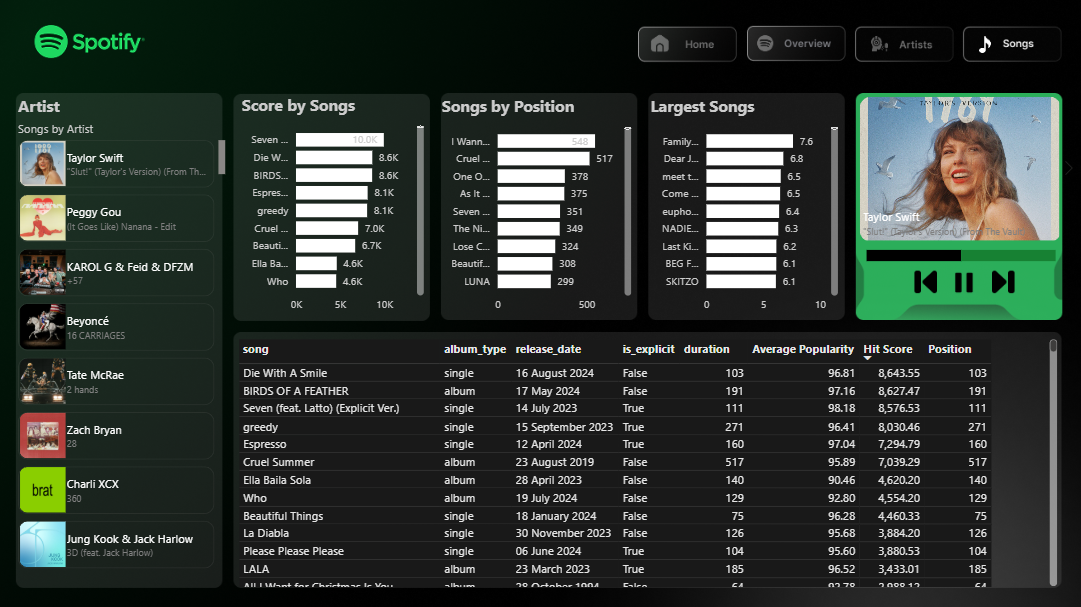

The page's visual inventory and layout, read from the dashboard file:
{"tool":"powerbi","page":{"name":"Songs","canvas":[1280,720],"ordinal":3},"visuals":[{"type":"actionButton","box":[754,32,116,42],"z":0},{"type":"actionButton","box":[884,34,114,40],"z":1000},{"type":"actionButton","box":[1012,34,114,40],"z":2000},{"type":"actionButton","box":[1140,34,114,40],"z":3000},{"type":"clusteredBarChart","title":"Score by Songs","fields":{"Category":["spotify-top-50-world.song"],"Y":["_Measures.Hit Score"]},"box":[285.2,111.5,224.4,266.2],"z":4000},{"type":"clusteredBarChart","title":"Largest Songs","fields":{"Y":["_Measures.Average Duration (Minutes)"],"Category":["spotify-top-50-world.song"]},"box":[766.9,112.8,230.7,264.9],"z":5000},{"type":"hundredPercentStackedBarChart","fields":{"Y":["_Measures.Average Popularity","Avg(spotify-top-50-world.popularity)"]},"box":[1021.2,265,232.5,67.5],"z":6000},{"type":"image","box":[1074.5,317.5,40,30],"z":7000},{"type":"image","box":[1165.7,317.5,40,30],"z":8000},{"type":"image","box":[1114.5,315.4,51.2,38.8],"z":9000},{"type":"advancedSlicerVisual","title":"Artist","fields":{"Values":["spotify-top-50-world.song"]},"box":[21.5,112.8,254.8,566.6],"z":10000},{"type":"advancedSlicerVisual","title":"Artist","fields":{"Values":["spotify-top-50-world.song"]},"box":[991.2,108.8,287.5,181.2],"z":11000},{"type":"clusteredBarChart","title":"Songs by Position","fields":{"Category":["spotify-top-50-world.song"],"Y":["CountNonNull(spotify-top-50-world.position)"]},"box":[521,112.8,233.2,264.9],"z":12000},{"type":"tableEx","fields":{"Values":["spotify-top-50-world.song","spotify-top-50-world.album_type","spotify-top-50-world.release_date Hierarchy.release_date","spotify-top-50-world.is_explicit","CountNonNull(spotify-top-50-world.duration_ms)","_Measures.Average Popularity","_Measures.Hit Score","CountNonNull(spotify-top-50-world.position)"]},"box":[281,396,974,300],"z":13000}]}

Visuals, with their boxes in screenshot pixels (x1, y1, x2, y2), scaled from the page's 1280x720 canvas onto the 1081x607 screenshot:
actionButton: l=637, t=27, r=735, b=62
actionButton: l=747, t=29, r=843, b=62
actionButton: l=855, t=29, r=951, b=62
actionButton: l=963, t=29, r=1059, b=62
"Score by Songs" clusteredBarChart: l=241, t=94, r=430, b=318
"Largest Songs" clusteredBarChart: l=648, t=95, r=843, b=318
hundredPercentStackedBarChart - _Measures.Average Popularity x Avg(spotify-top-50-world.popularity): l=862, t=223, r=1059, b=280
image: l=907, t=268, r=941, b=293
image: l=984, t=268, r=1018, b=293
image: l=941, t=266, r=984, b=299
"Artist" advancedSlicerVisual: l=18, t=95, r=233, b=573
"Artist" advancedSlicerVisual: l=837, t=92, r=1080, b=244
"Songs by Position" clusteredBarChart: l=440, t=95, r=637, b=318
tableEx - spotify-top-50-world.song x spotify-top-50-world.album_type: l=237, t=334, r=1060, b=587
